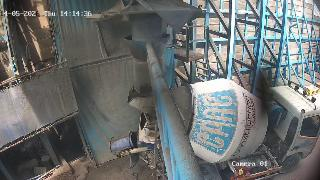cement_mixer_truck: (129, 78, 320, 180)
swing_chute: (125, 35, 170, 94)
